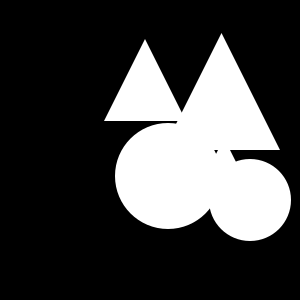rectangle: (115, 123, 221, 229), (209, 159, 291, 241)
triangle: (163, 33, 280, 150), (104, 39, 186, 121), (193, 138, 255, 200)
